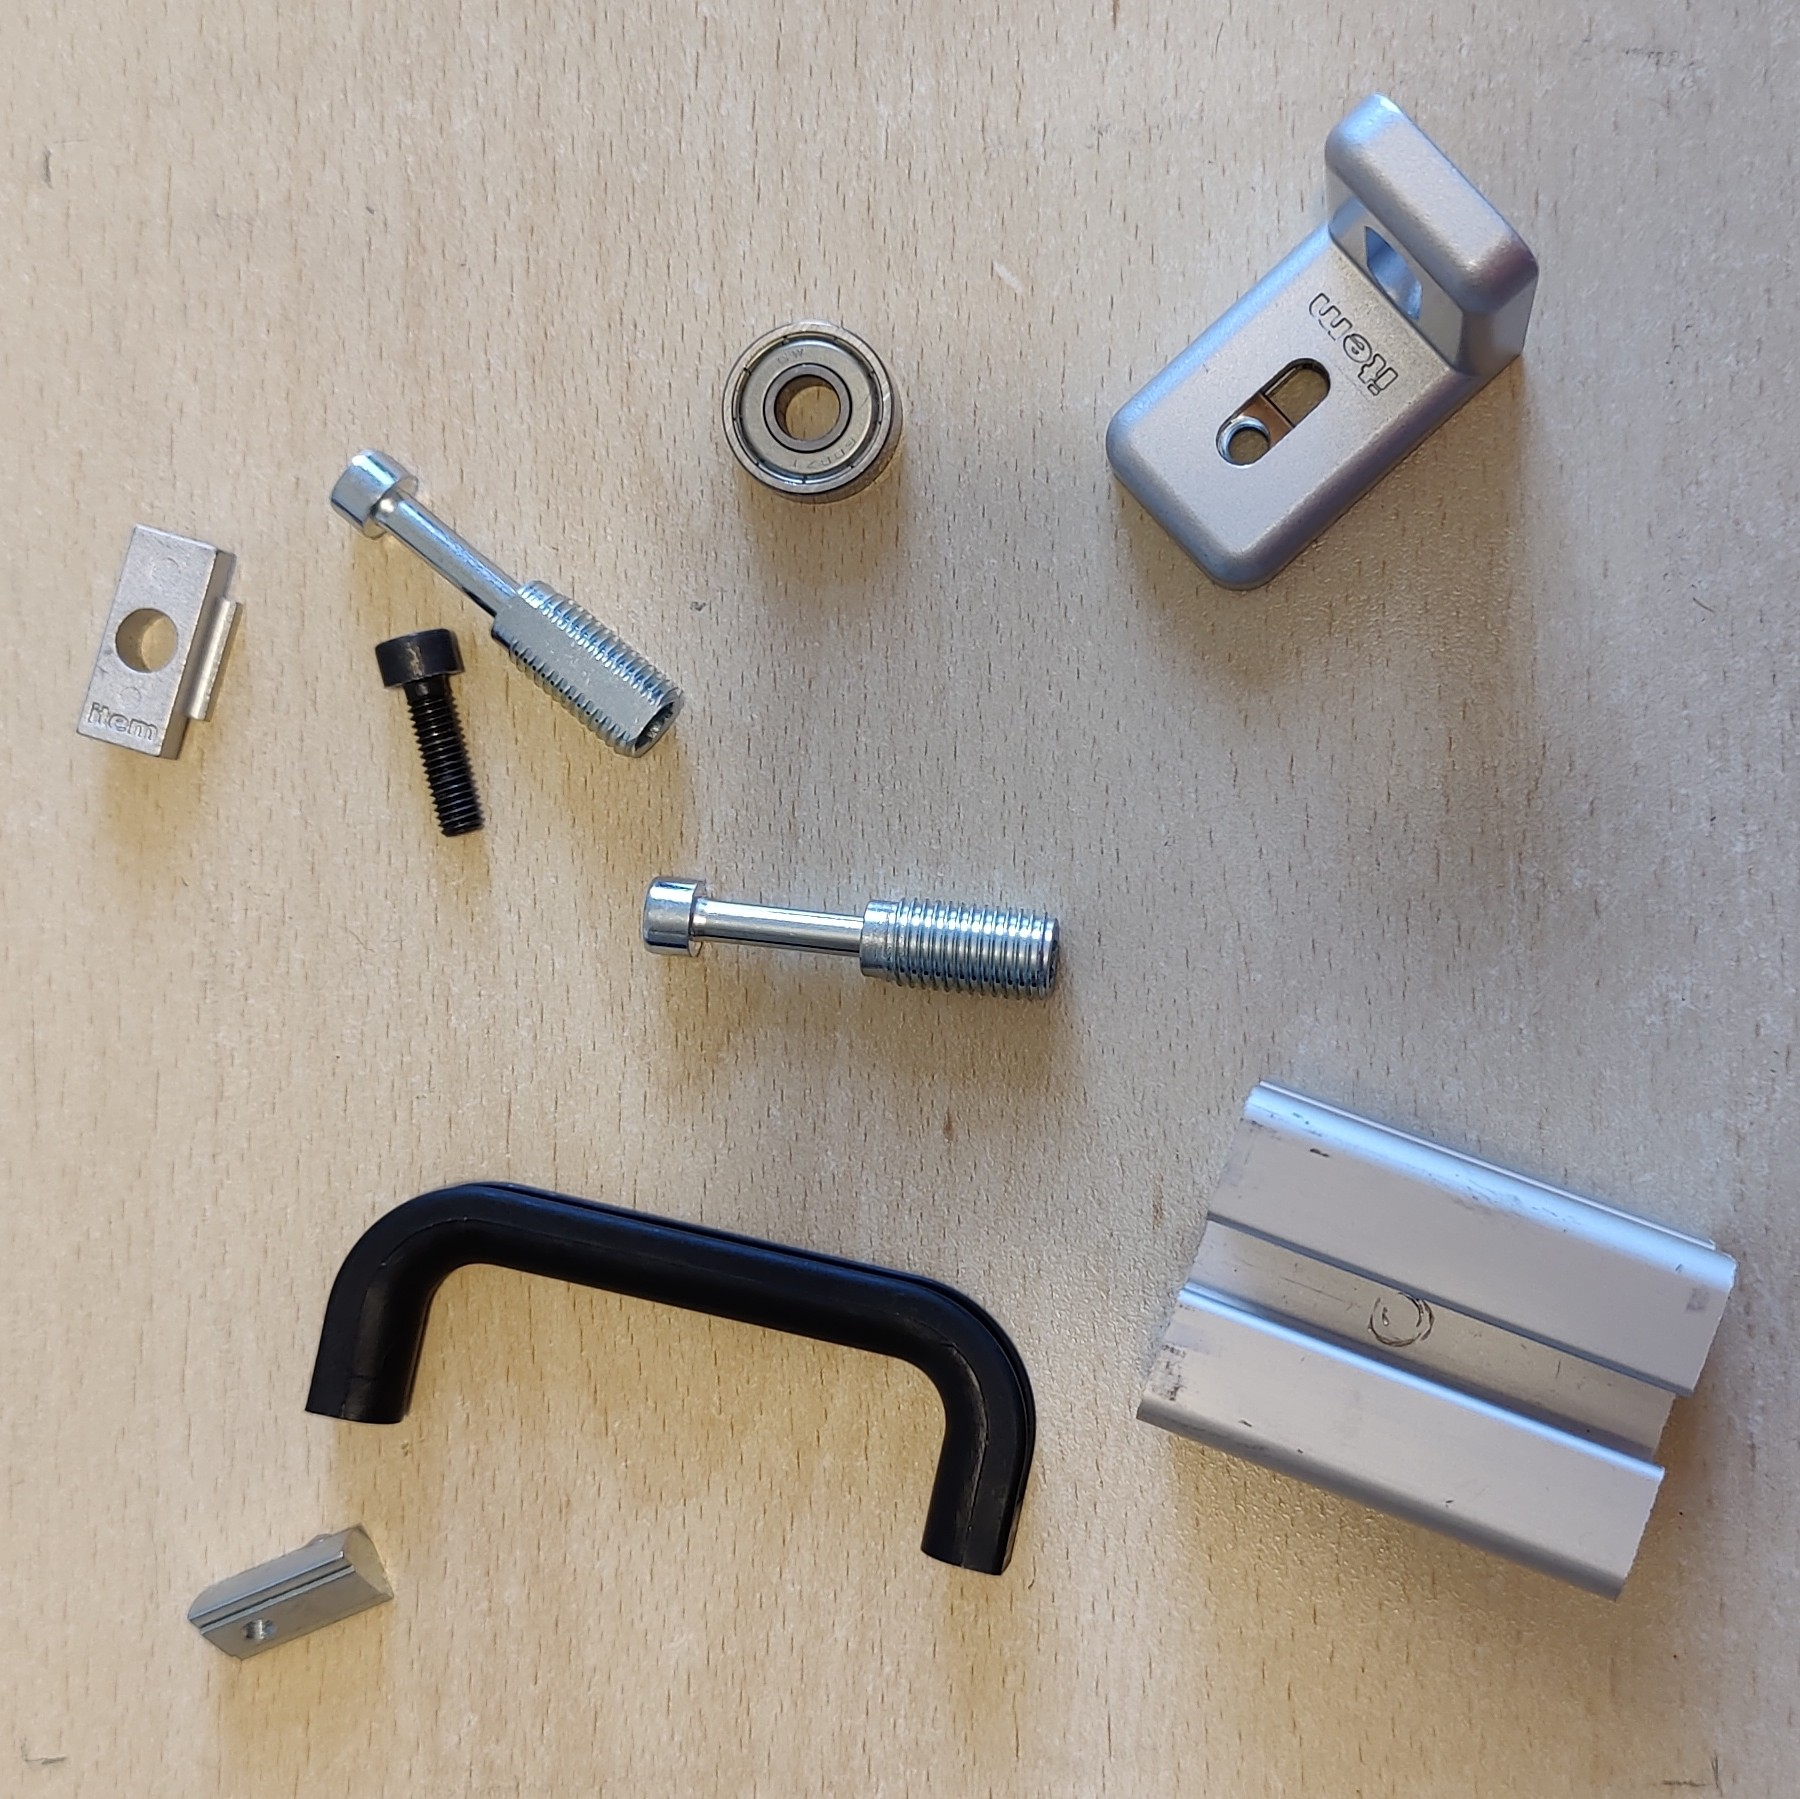Aluminium Extension: (1133, 1077, 1736, 1605)
Ball Bearing: (720, 321, 906, 507)
Multiwinkel: (1103, 91, 1540, 595)
Pull Handle: (301, 1176, 1039, 1578)
Shoulder Socket Head Cap Screw: (328, 445, 688, 761), (641, 871, 1062, 1003)
Socket Head Cap Screw: (374, 626, 489, 840)
T Nut Square: (74, 521, 244, 763)
T Spring Nut: (184, 1522, 397, 1664)
